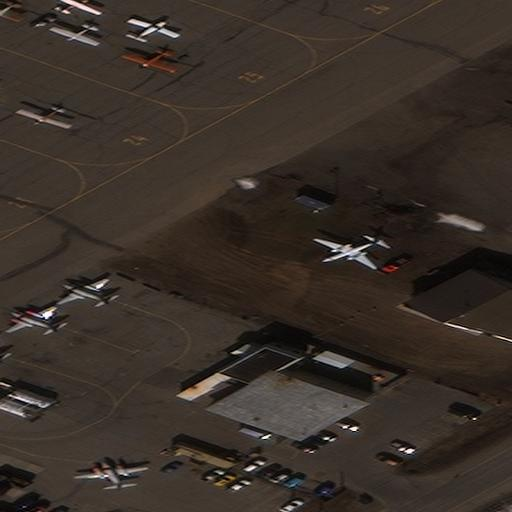Medium Civil Transport: (312, 238, 381, 270)
Small Civil Transport: (73, 462, 146, 489), (55, 277, 108, 304), (4, 305, 57, 331), (120, 49, 172, 73), (14, 107, 68, 129), (130, 18, 180, 40), (48, 24, 97, 46), (56, 0, 102, 13), (0, 2, 18, 22)
